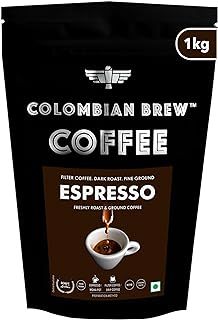Coffee: (1, 10, 217, 320)
